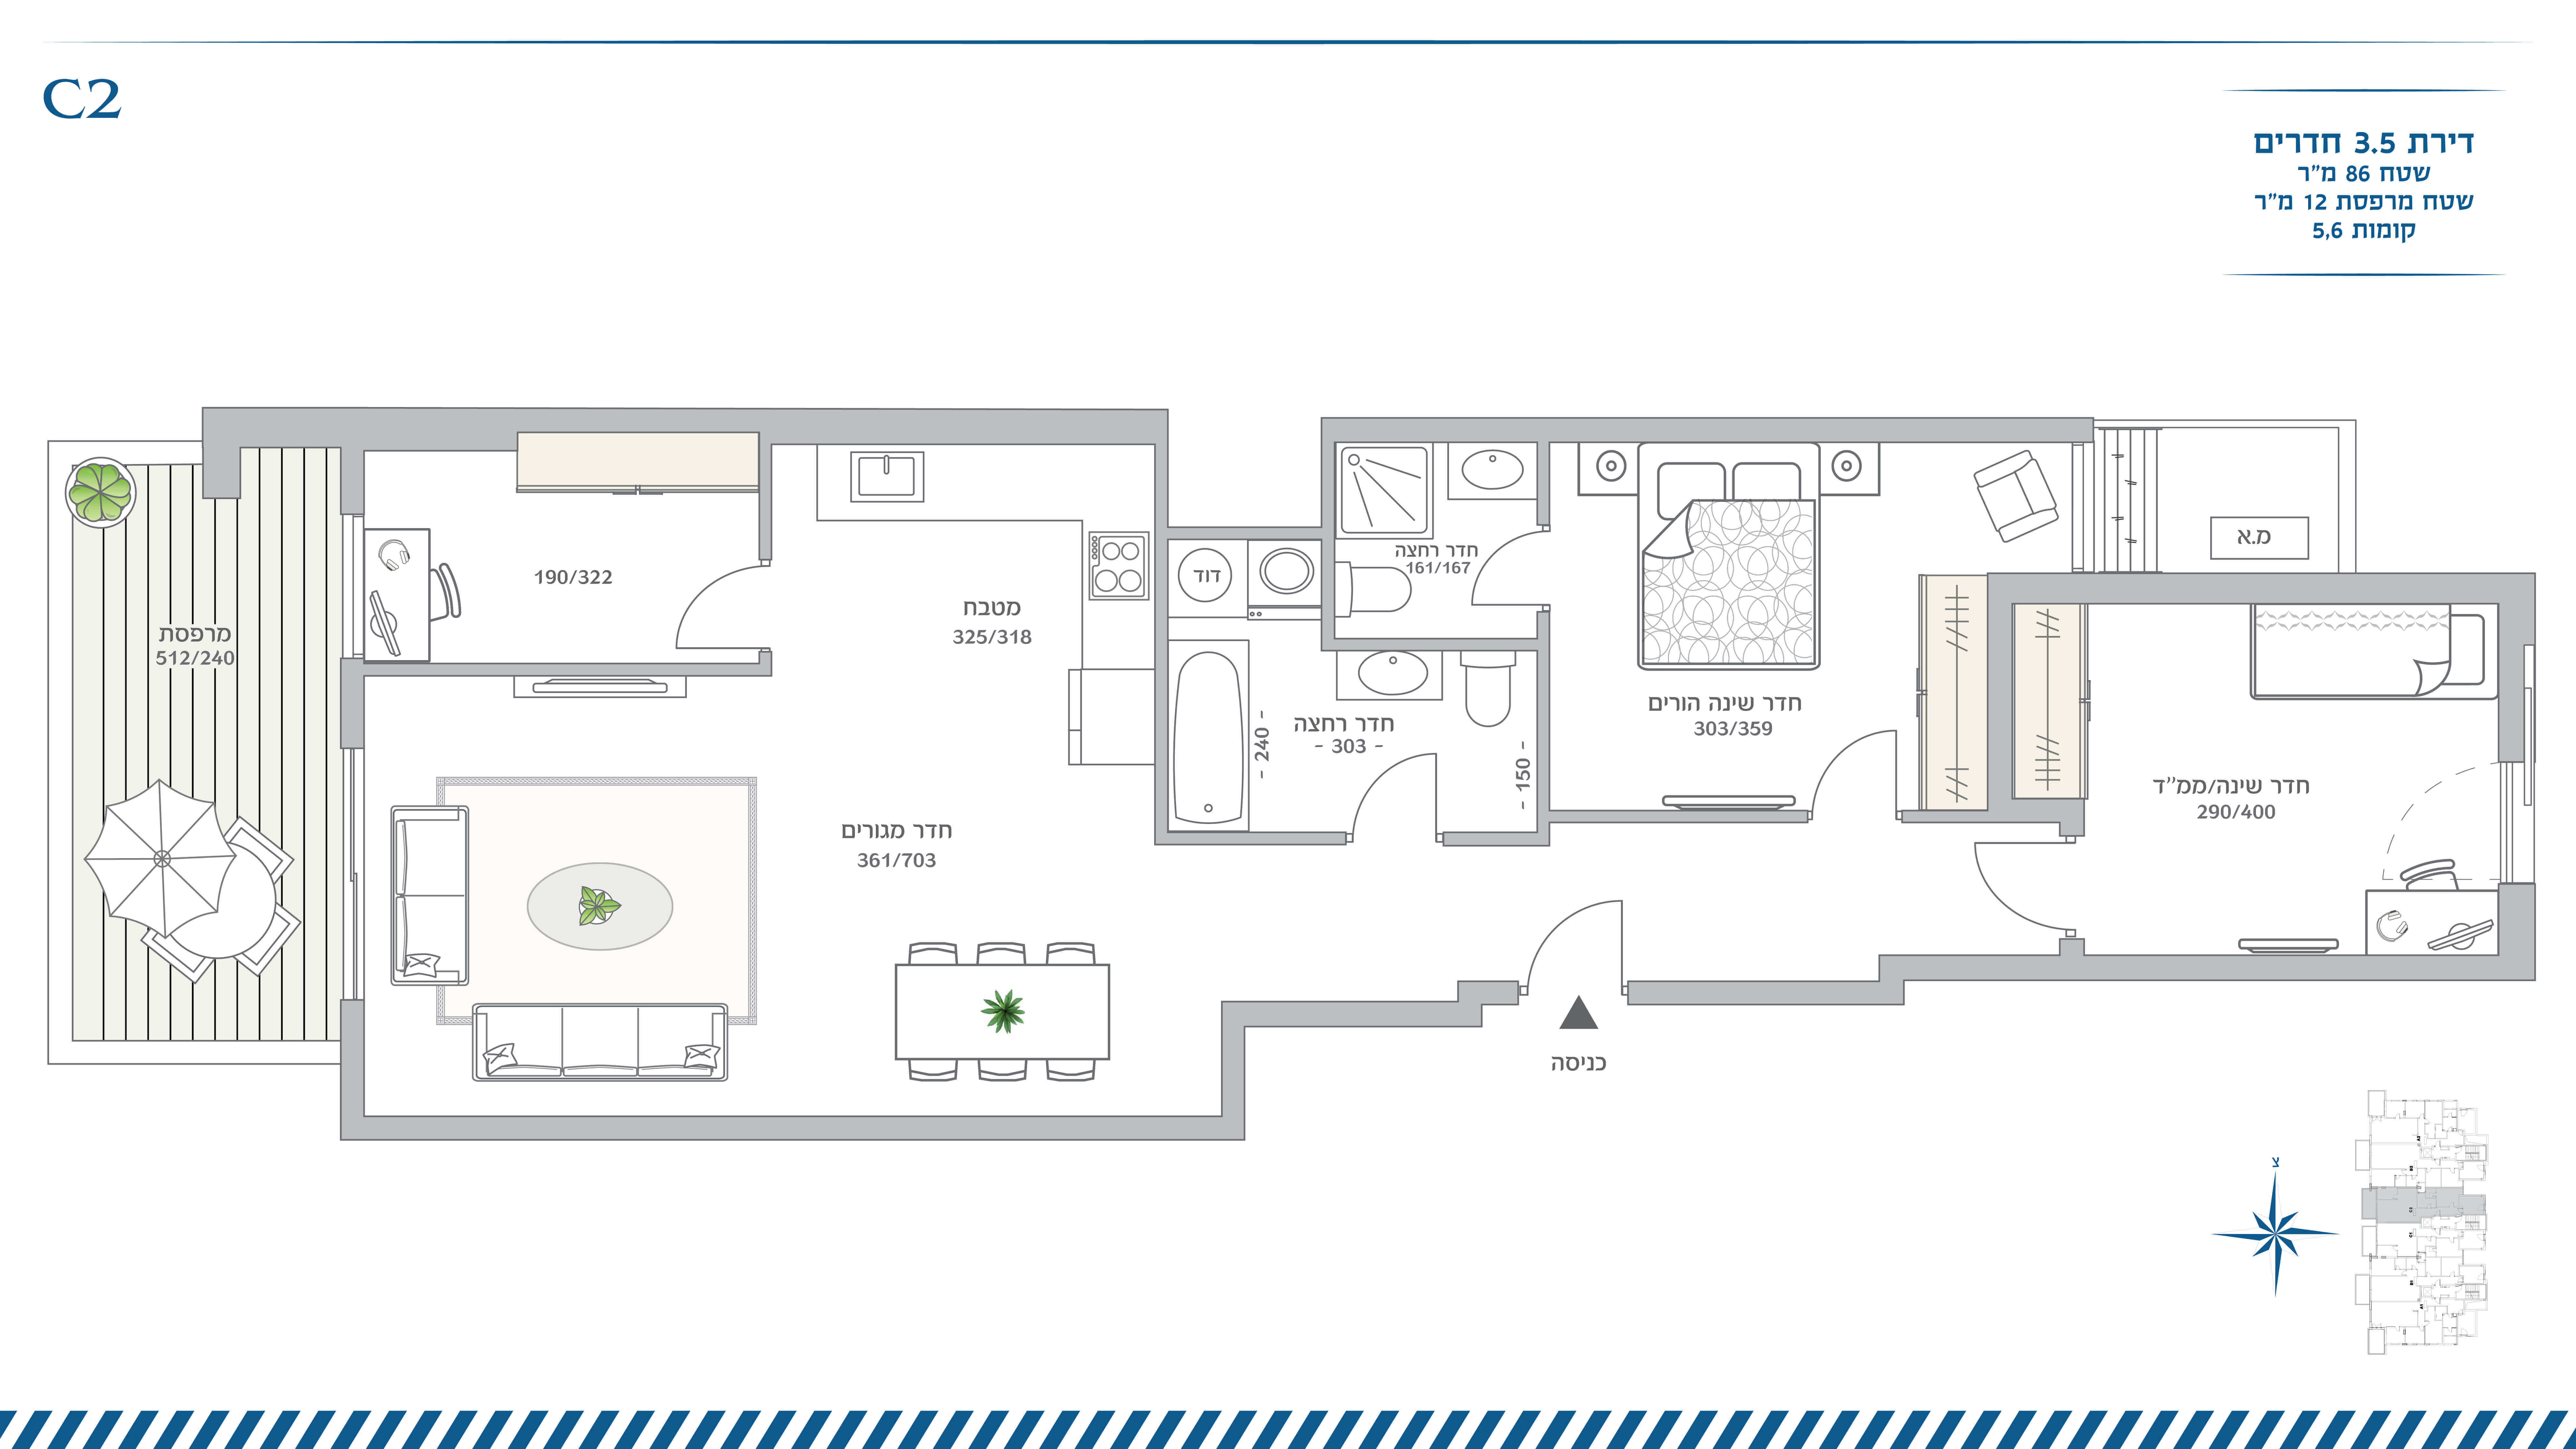door: (1939, 823, 2051, 922), (1821, 724, 1905, 803), (1375, 745, 1451, 814)
wall: (345, 1109, 1244, 1141), (1323, 418, 2097, 446), (1994, 573, 2526, 605), (1879, 952, 2526, 975)
